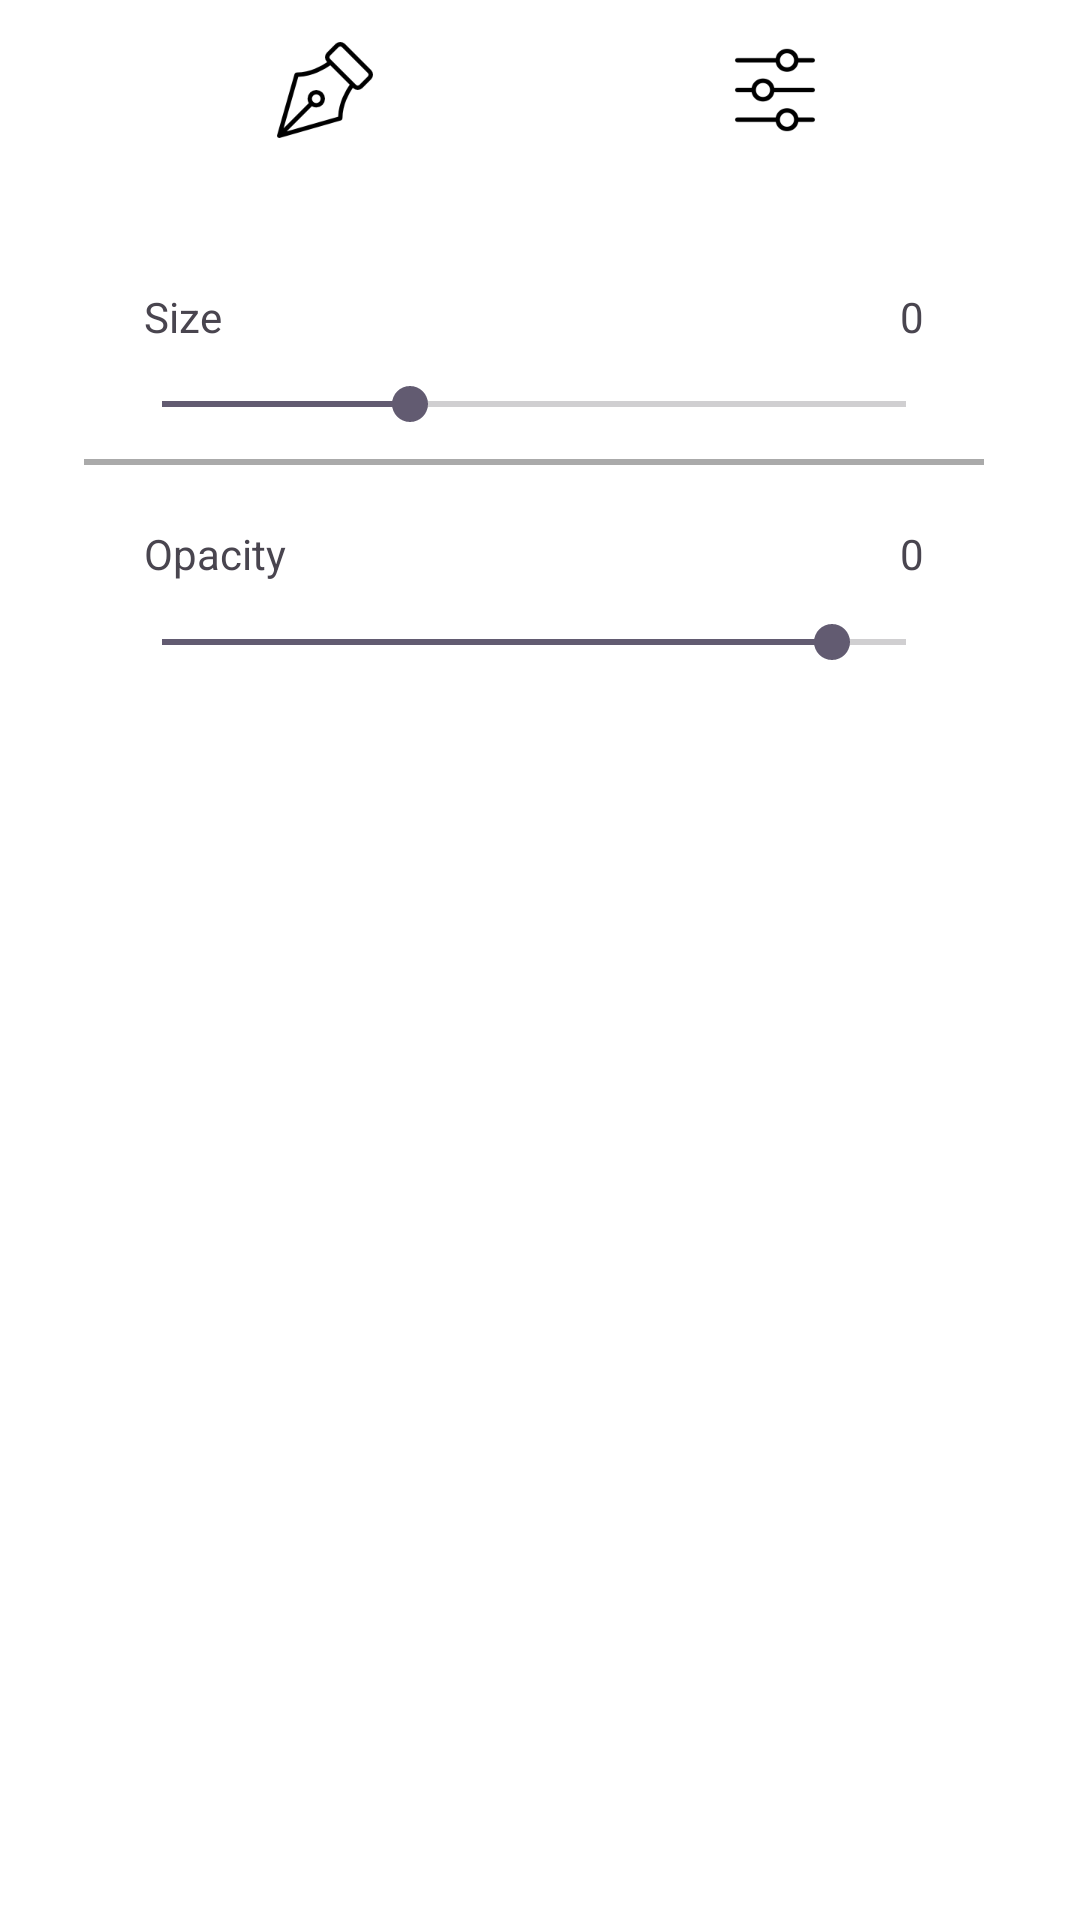

Icon bounding boxes for this 1080 x 1920 phone screenshot, format box=[x1, y1, x2, y2]:
adjust: box=[735, 48, 815, 132]
pen tool: box=[277, 42, 373, 138]
